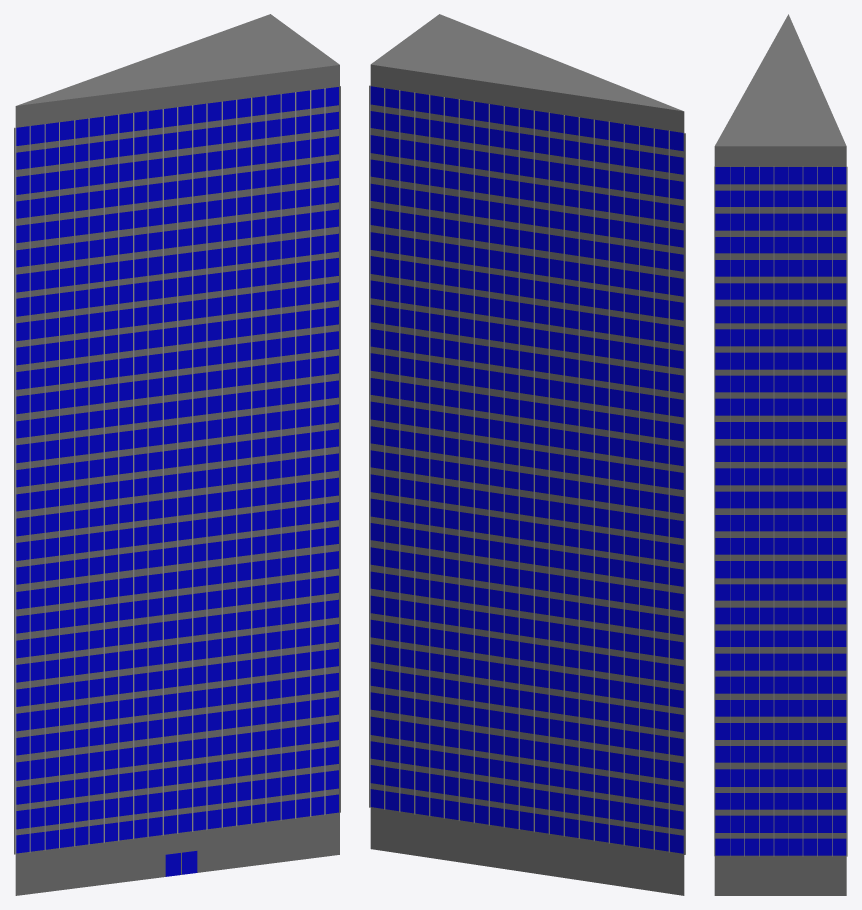
The model's file is SM_Building_3.fbx.
3 renders of one model, left to right at view 1: azimuth 30°, elevation 25°; view 2: azimuth 150°, elevation 25°; view 3: azimuth 270°, elevation 25°, orthographic. The views are drawn at different scales.
Parts seen in each view (by area): view 1: pCube852; view 2: pCube852; view 3: pCube852.
Boxes of the visible parts, x1,y1,x2,y2 form: pCube852: (14, 14, 340, 895); pCube852: (369, 14, 685, 895); pCube852: (714, 14, 847, 895).
Bounding box in the file's own units: 124 × 324 × 52.1.
